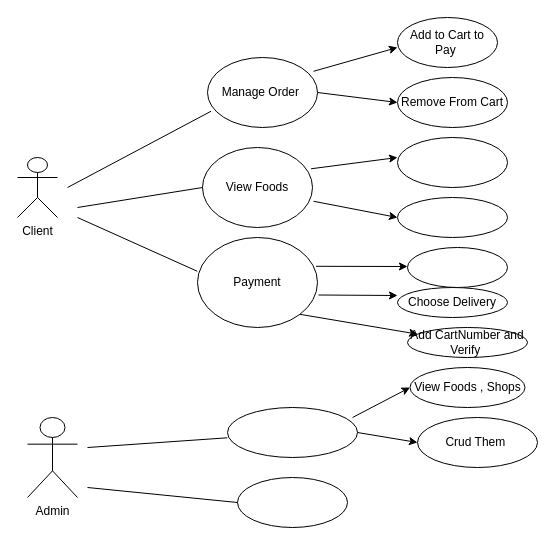
This 555x545 diagram has some shape labels left out. The centre of each missing label's shape, as x and y in pixels:
Add Adress: the point at 457,267
Manage Foods: the point at 292,432
View Foods By Shop Brand: the point at 452,162
View Foods By Type: the point at 452,217
View Orders: the point at 292,502
